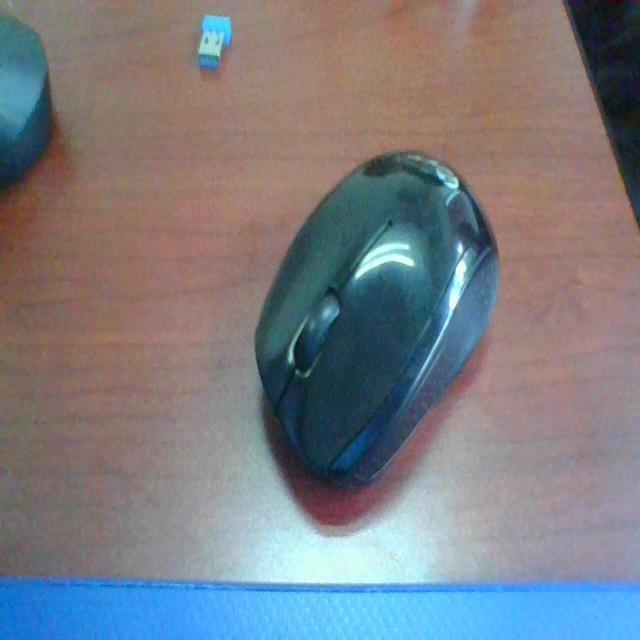Mouse: (252, 128, 516, 524)
